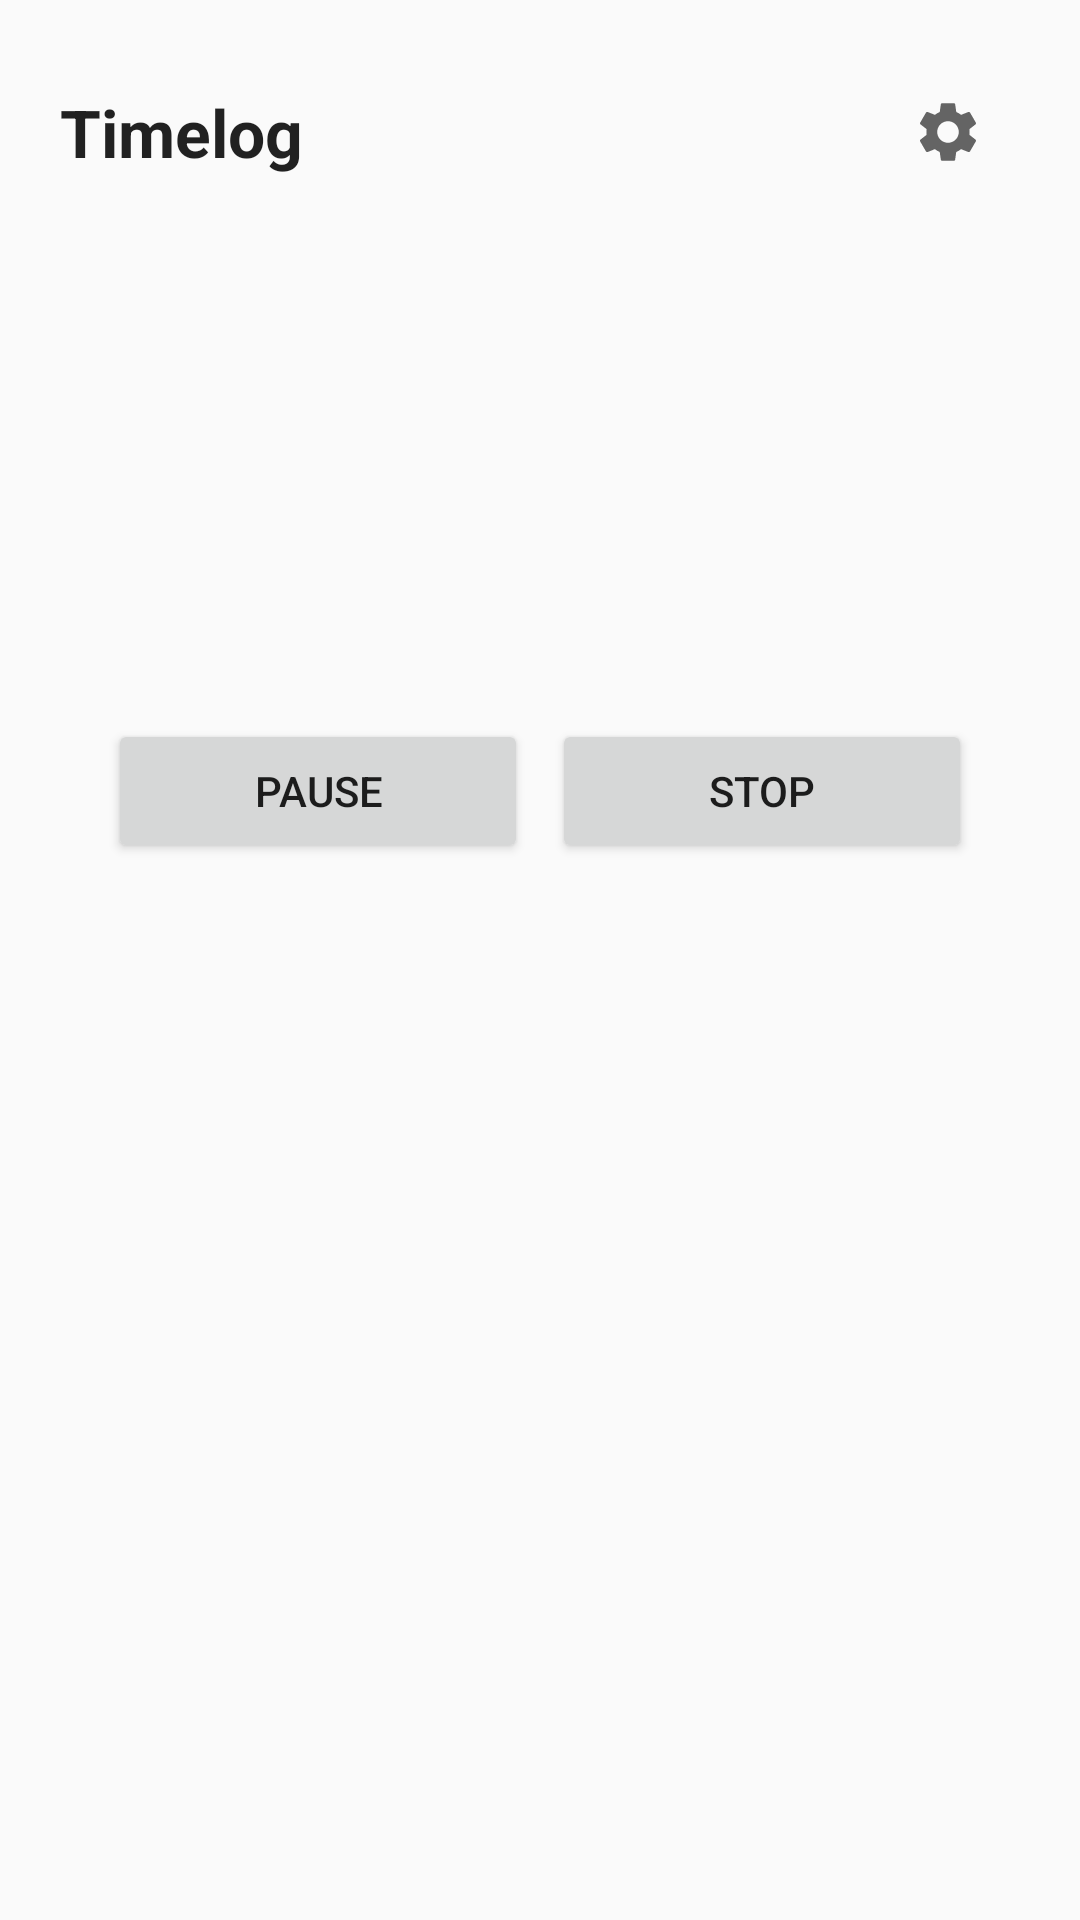

Where to tap for icons on this 1080x1920 app screen, as [x,y]:
Settings: [948,132]
